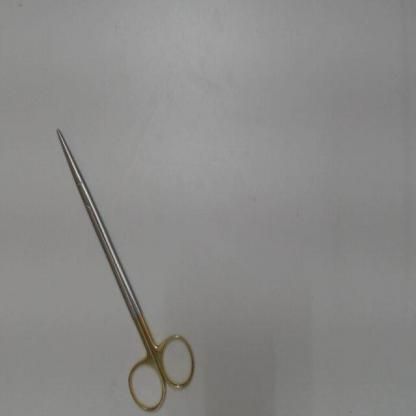7 Metzenbaum Scissors: (51, 121, 200, 415)
